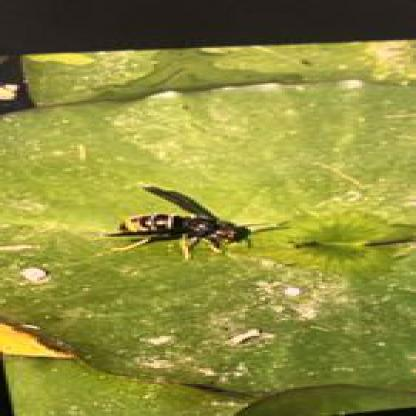Asian Hornet: (103, 186, 264, 261)
